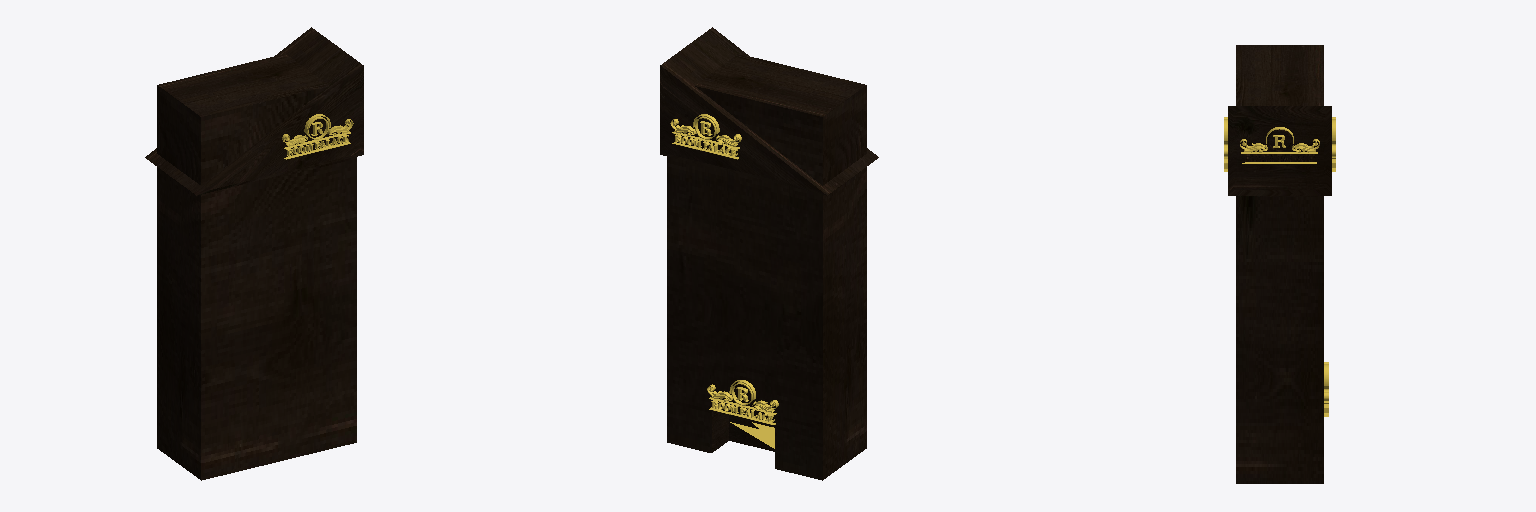
3 views of the same model, side by side, from view 1: azimuth 30°, elevation 25°; view 2: azimuth 150°, elevation 25°; view 3: azimuth 270°, elevation 25° (orthographic).
Visible parts, largest first — view 1: grupo, _planarTrimmedSurface12; view 2: grupo, _planarTrimmedSurface12; view 3: grupo, _planarTrimmedSurface12.
Part boxes in pixels (left/top/right/bottom): grupo: left=145, top=27, right=363, bottom=480; _planarTrimmedSurface12: left=282, top=114, right=353, bottom=159; grupo: left=660, top=27, right=878, bottom=480; _planarTrimmedSurface12: left=670, top=114, right=778, bottom=448; grupo: left=1228, top=45, right=1331, bottom=483; _planarTrimmedSurface12: left=1224, top=117, right=1335, bottom=416.
Bounding box in the file's own units: 27.02 × 57.44 × 15.48.
2 materials, 1 textured.